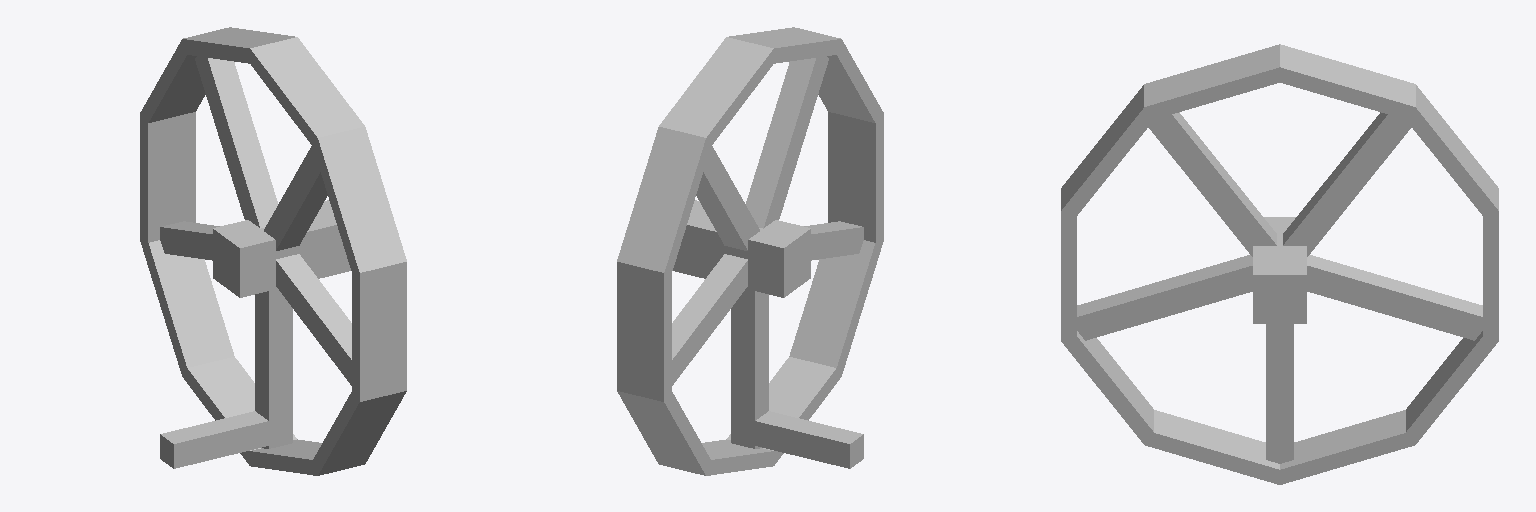
File: large_wheel_crank.obj
The picture shows the model from 3 angles: view 1: azimuth 30°, elevation 25°; view 2: azimuth 150°, elevation 25°; view 3: azimuth 270°, elevation 25°; orthographic projection.
Visible parts, largest first — view 1: tube, shaft, spoke3, spoke1, spoke5, handle, spoke4, spoke2; view 2: tube, shaft, spoke4, spoke1, spoke2, handle, spoke3, spoke5; view 3: tube, spoke2, spoke5, spoke3, spoke4, shaft, spoke1.
Part boxes in pixels (x1,y1,x2,y2): tube: (140,27,406,475); shaft: (213,200,350,297); spoke3: (195,56,277,228); spoke1: (255,289,292,448); spoke5: (276,254,351,385); handle: (160,411,268,468); spoke4: (264,146,327,250); spoke2: (160,221,219,260); tube: (617,27,883,475); shaft: (673,200,810,297); spoke4: (746,56,828,228); spoke1: (731,289,768,448); spoke2: (672,254,747,385); handle: (755,411,863,468); spoke3: (696,146,759,250); spoke5: (804,221,863,260); tube: (1061,44,1498,484); spoke2: (1307,255,1482,340); spoke5: (1077,255,1252,340); spoke3: (1283,112,1411,256); spoke4: (1148,112,1276,256); shaft: (1253,217,1306,323); spoke1: (1266,324,1293,463).
Bounding box in the file's own units: 0.4688 × 1.05 × 1.